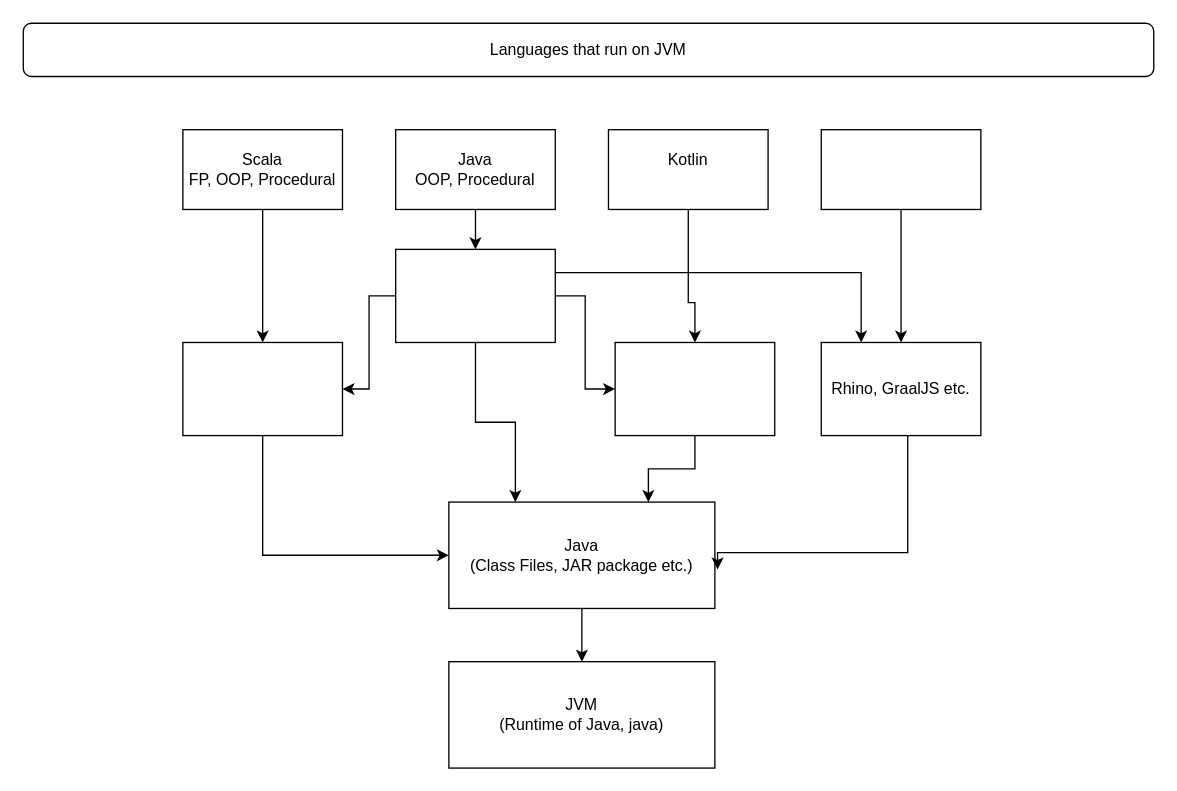
Image size: 1177x791. Some labels were removed from this diagram. Each missing label, with the centre of its shape:
JavaScript: point 900,168
JDK (javac etc., libraries): point 474,295
kotlinc: point 694,388
scalac: point 262,388
